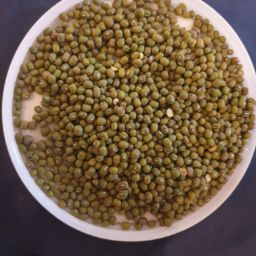Green gram dal(moong): (64, 10, 190, 232), (15, 70, 251, 170), (100, 1, 209, 216), (37, 30, 137, 232), (174, 4, 256, 194), (9, 48, 91, 210)
